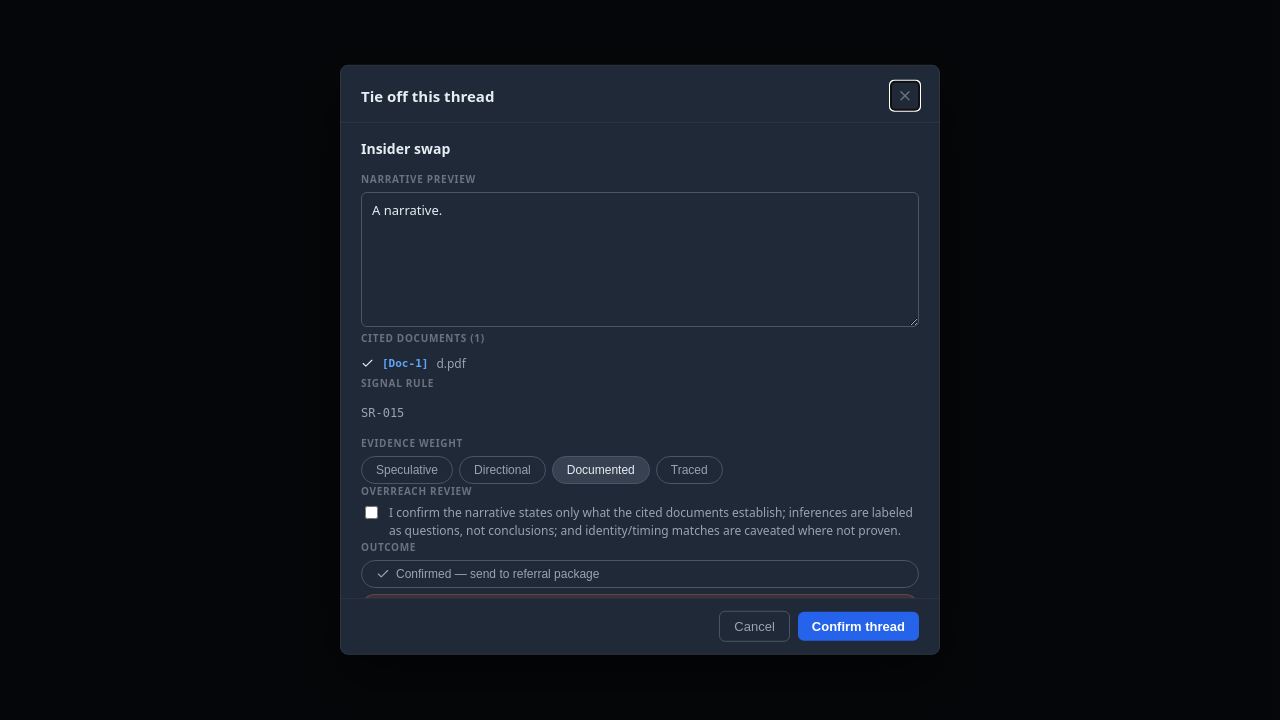
it: TieOffModal gate › disables Confirm until overreach is acknowledged (ASSERTION_V1 gate-complete thread)
What coordinates should you click on to do the following:
click the radio button labelled "Confirmed — send to referral package"
I would click on:
 (498, 574)
Its box is x1=361 y1=560 x2=919 y2=588.
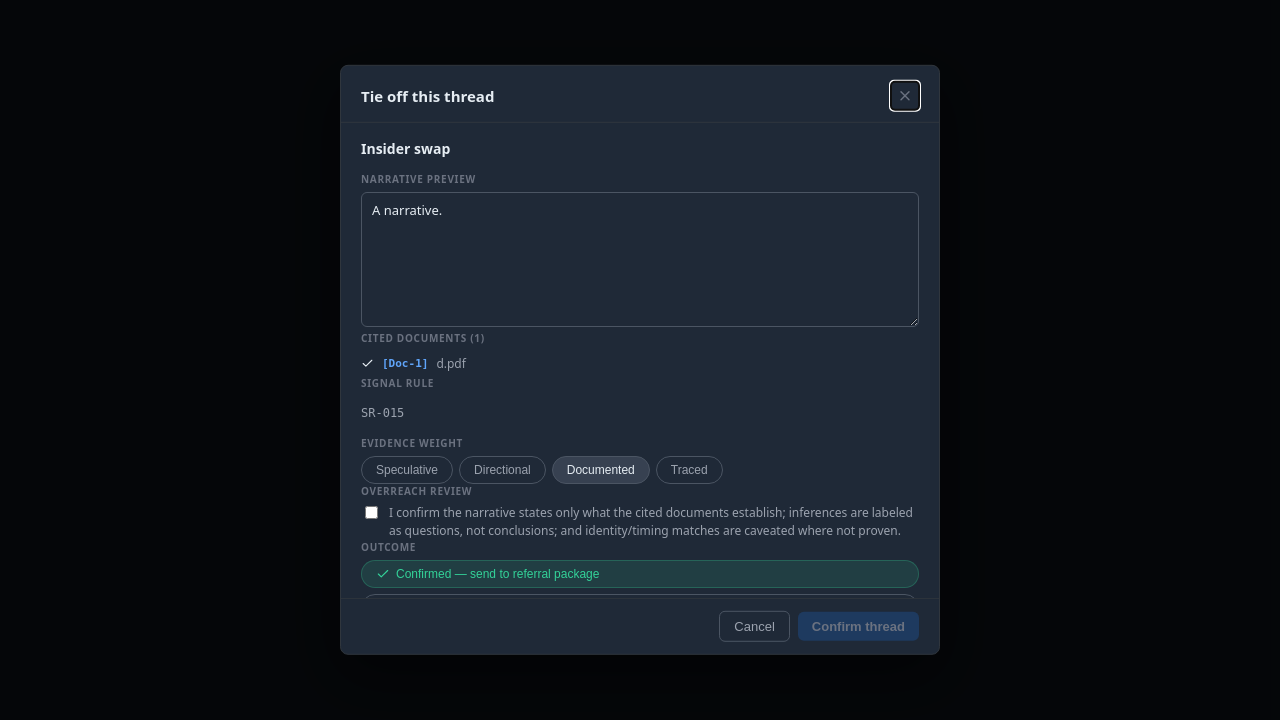
Expected: the button "Confirm thread" is disabled, x1=798 y1=612 x2=919 y2=641
What coordinates should you click on to do the following:
click the checkbox named "overreach"
I would click on:
 (372, 512)
Its box is x1=365 y1=506 x2=378 y2=519.
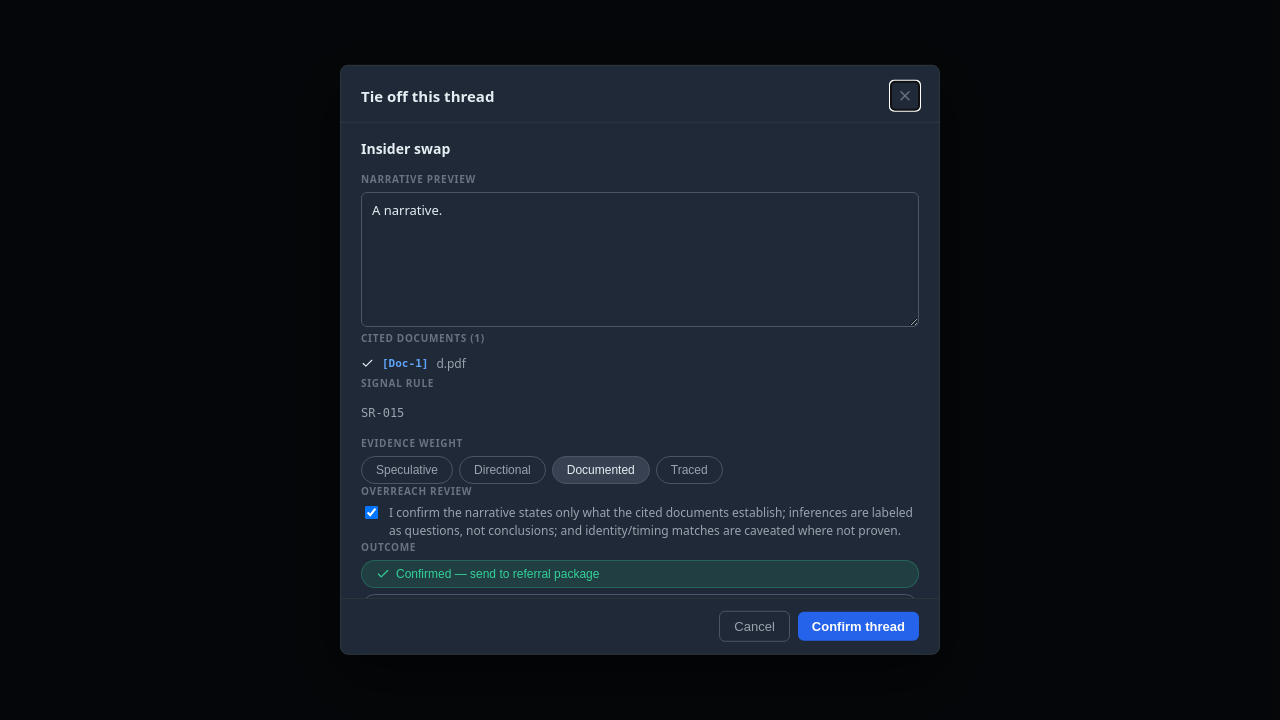
Expected: the button "Confirm thread" is enabled, x1=798 y1=612 x2=919 y2=641
